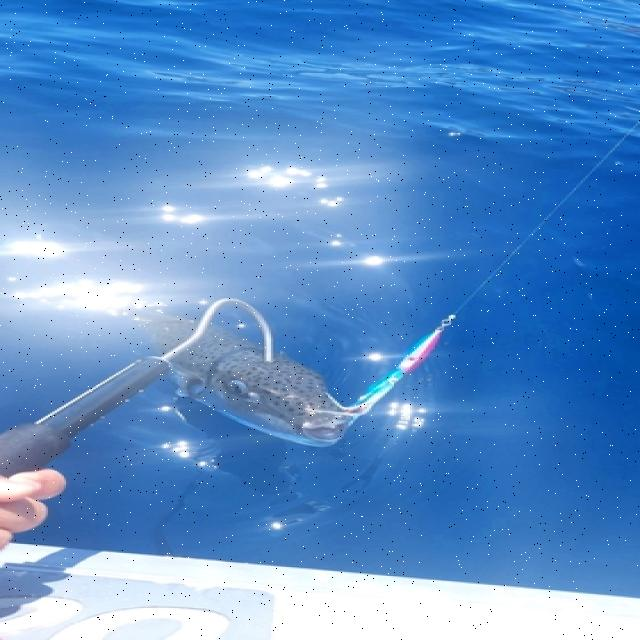Balik: (171, 327, 355, 446)
